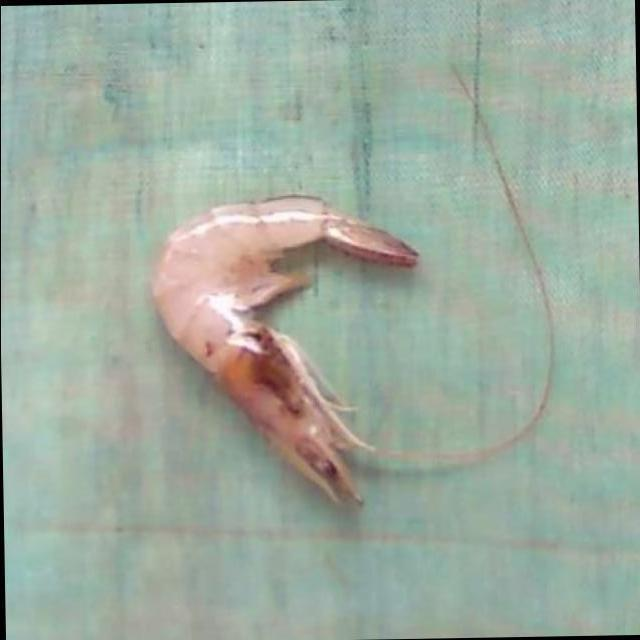shrimp: (151, 197, 418, 502)
